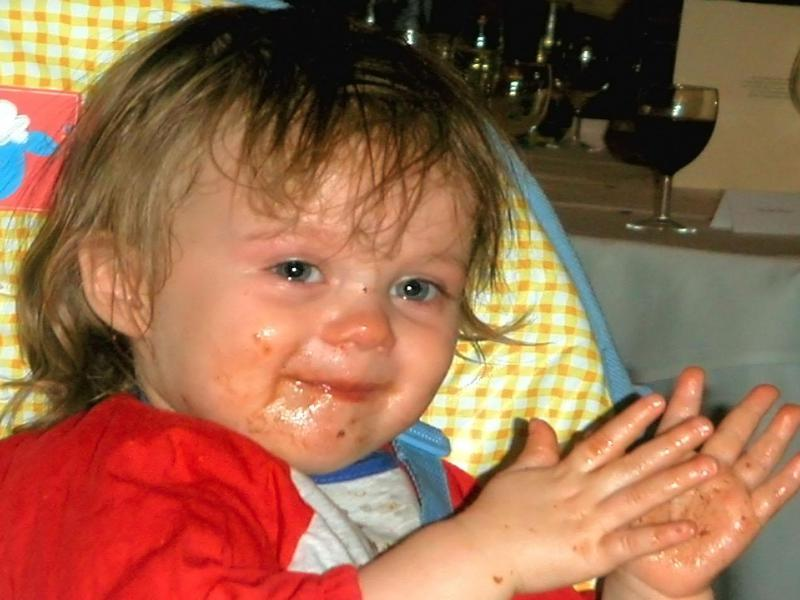person: (9, 13, 795, 600)
